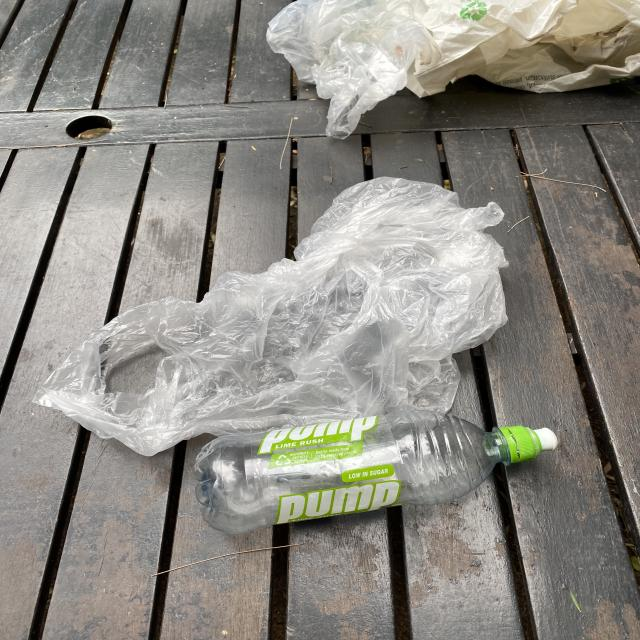bag: (30, 177, 507, 458), (408, 0, 640, 98), (267, 0, 419, 140)
bottle: (195, 410, 560, 536)
